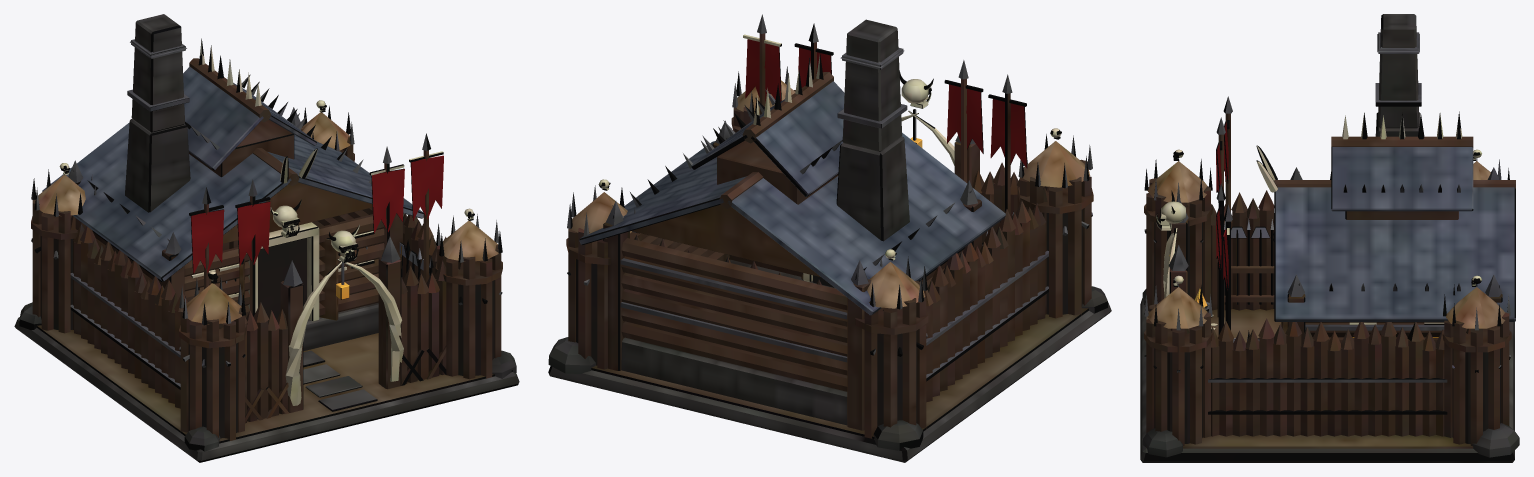
The model's file is great_hall.glb.
The picture shows the model from 3 angles, left to right: view 1: azimuth 30°, elevation 25°; view 2: azimuth 150°, elevation 25°; view 3: azimuth 270°, elevation 25°; orthographic projection. The views are drawn at different scales.
Visible parts, largest first — view 1: Static_Mesh, Anim_WarBanner_1, Anim_WarBanner_0, Anim_WarBanner_3, Anim_WarBanner_2; view 2: Static_Mesh, Anim_WarBanner_2, Anim_WarBanner_0, Anim_WarBanner_3, Anim_WarBanner_1; view 3: Static_Mesh.
Part boxes in pixels (<box>): Static_Mesh: <box>14,14,519,462</box>; Anim_WarBanner_1: <box>371,168,404,233</box>; Anim_WarBanner_0: <box>237,201,270,266</box>; Anim_WarBanner_3: <box>410,155,443,220</box>; Anim_WarBanner_2: <box>190,209,224,274</box>; Static_Mesh: <box>548,14,1111,462</box>; Anim_WarBanner_2: <box>990,99,1027,168</box>; Anim_WarBanner_0: <box>947,84,983,153</box>; Anim_WarBanner_3: <box>745,39,781,103</box>; Anim_WarBanner_1: <box>798,48,831,87</box>; Static_Mesh: <box>1140,14,1519,462</box>.
Bounding box in the file's own units: 10.86 × 10.2 × 10.68.
Materials: 2 (2 with a texture image).
